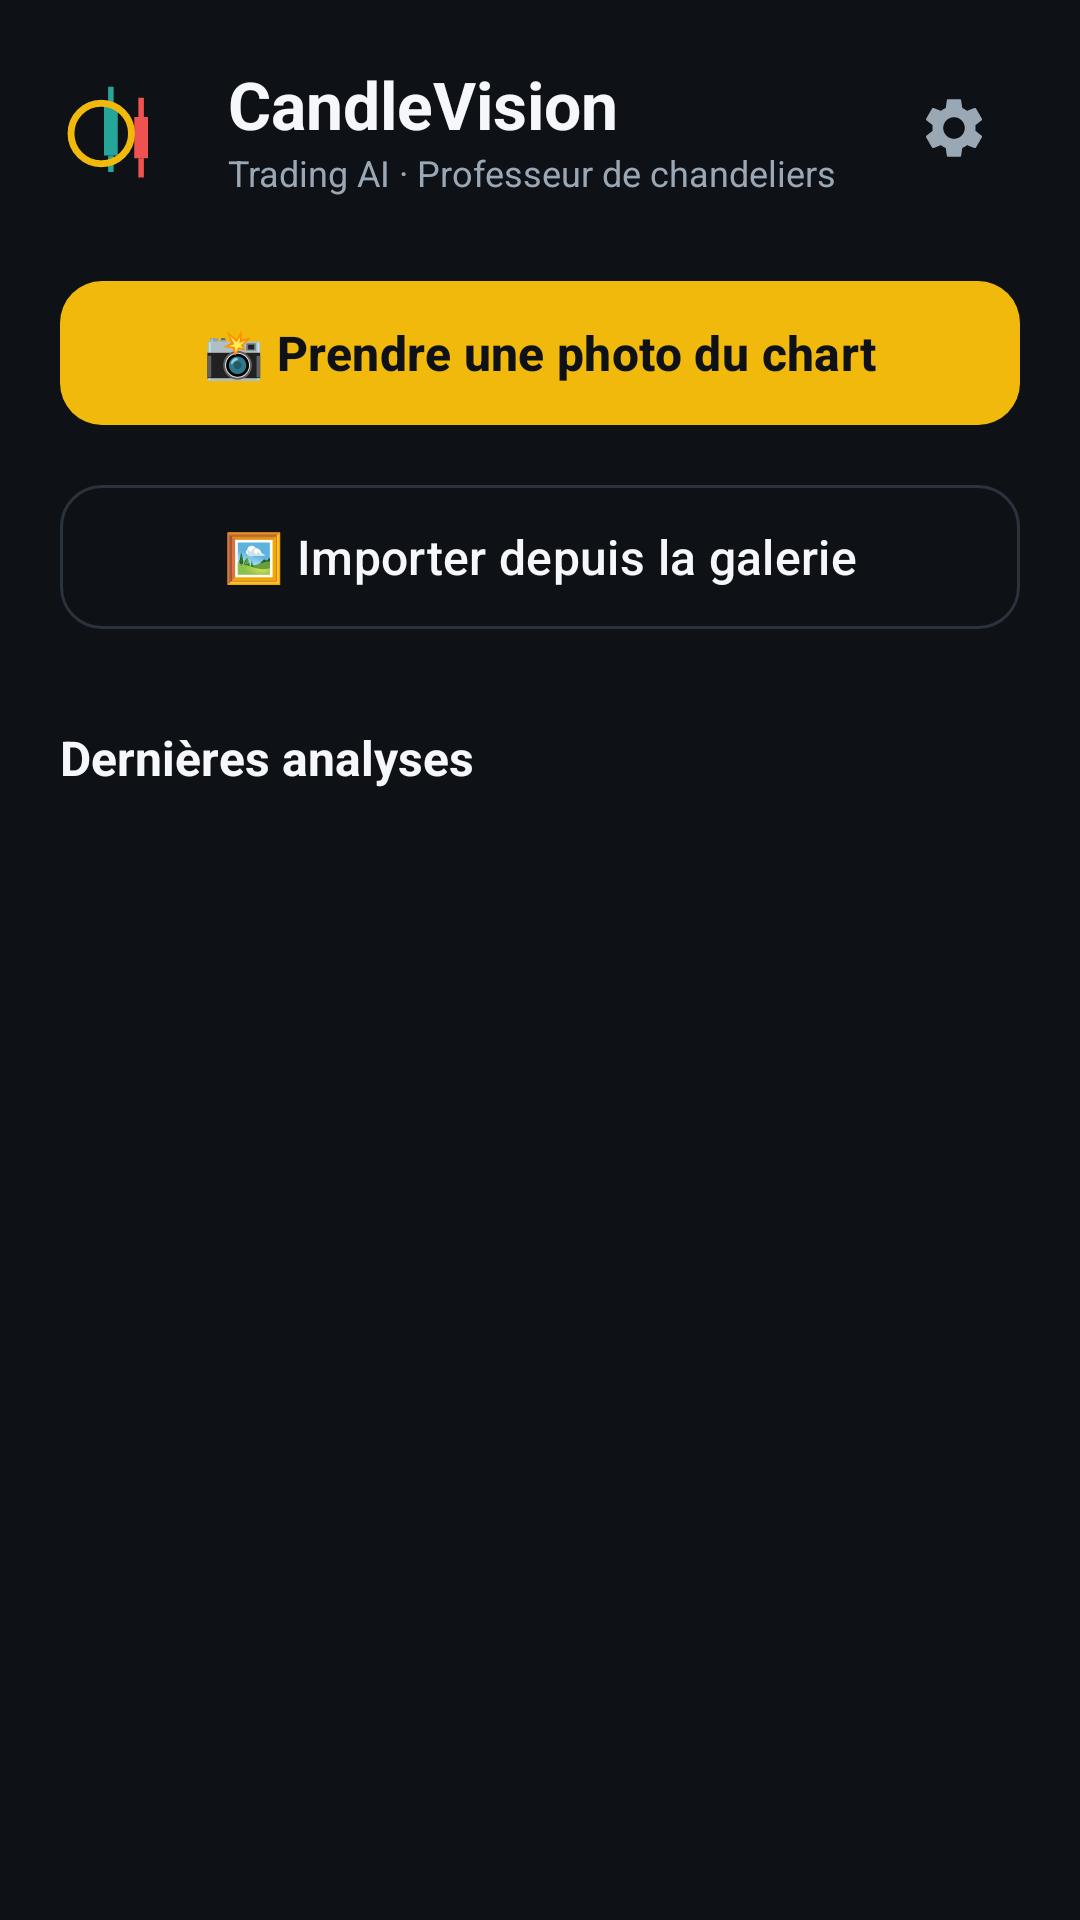

Screen size 1080 × 1920. Icon name, then its box in pixels as (x1, y1, x2, y2):
Paramètres: (926, 99, 982, 157)
